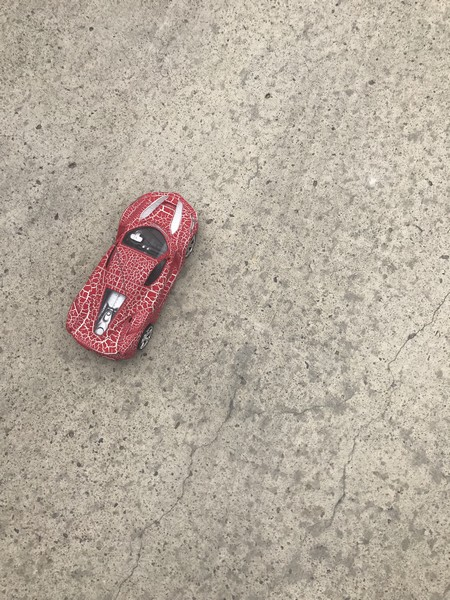RC: (65, 191, 201, 362)
